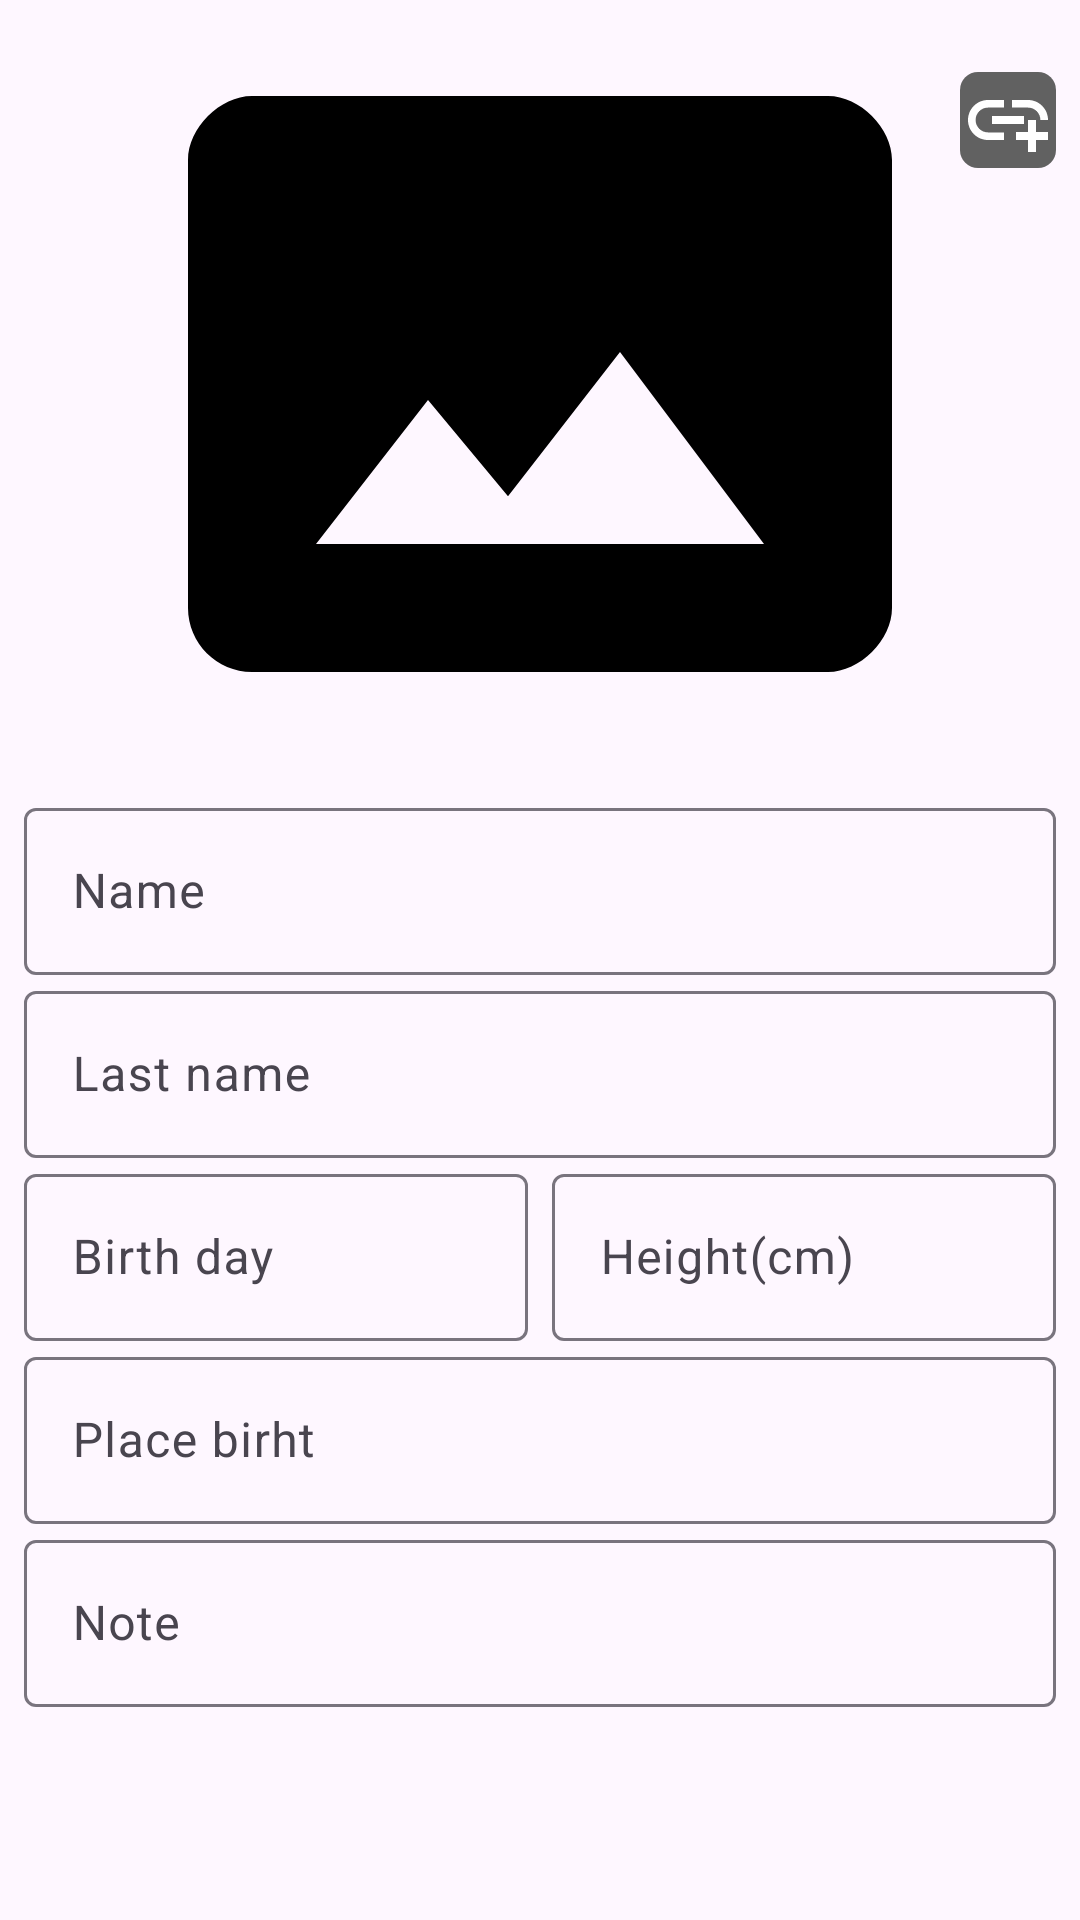

Where to tap for icons on this 1080x1920 app screen, as (x=x, y=y):
add link: (x=1008, y=120)
